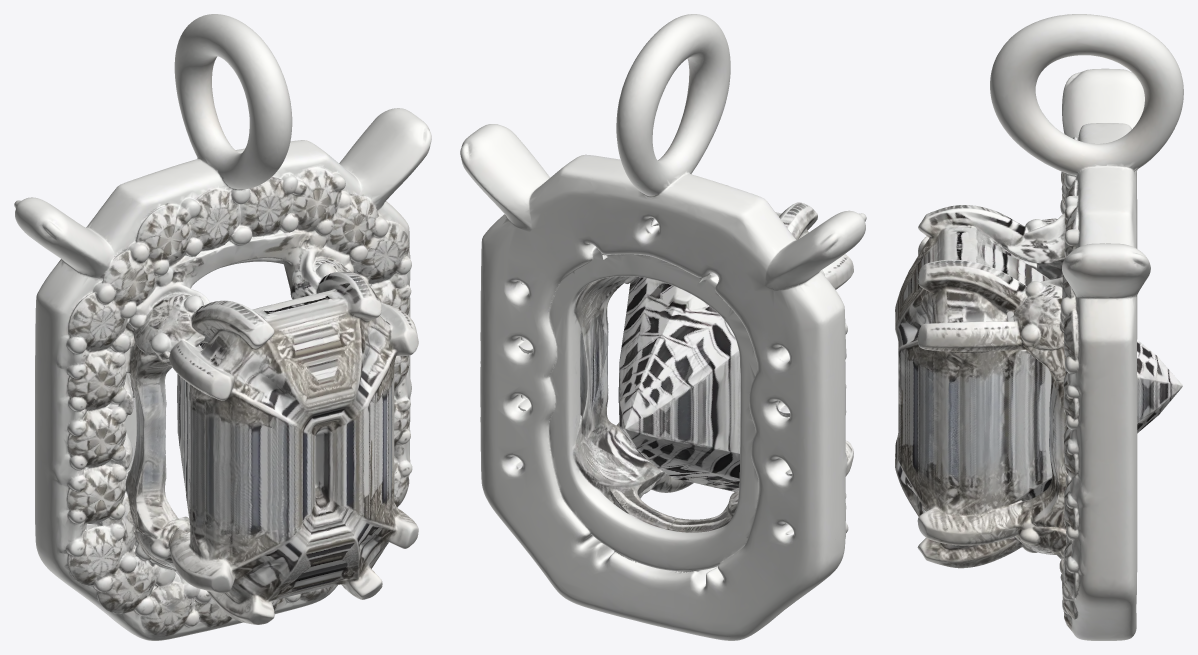
The model's file is emerald-halo-pendant-opt.glb.
3 views of the same model, side by side, from view 1: azimuth 30°, elevation 25°; view 2: azimuth 150°, elevation 25°; view 3: azimuth 270°, elevation 25° (orthographic). The views are drawn at different scales.
Parts seen in each view (by area): view 1: mesh_node; view 2: mesh_node; view 3: mesh_node.
Part boxes in pixels (box(x1,y1,x2,y2)): mesh_node: box(14, 14, 431, 640); mesh_node: box(460, 14, 866, 640); mesh_node: box(895, 14, 1183, 640).
Size of the model in its own units: 1.31 by 1.9 by 0.845.
Materials: 1 (1 with a texture image).
